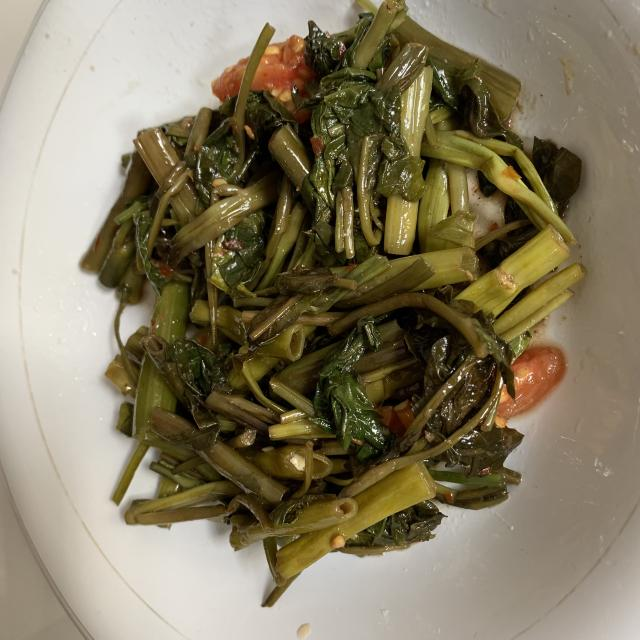Wet Waste: (81, 3, 587, 611)
